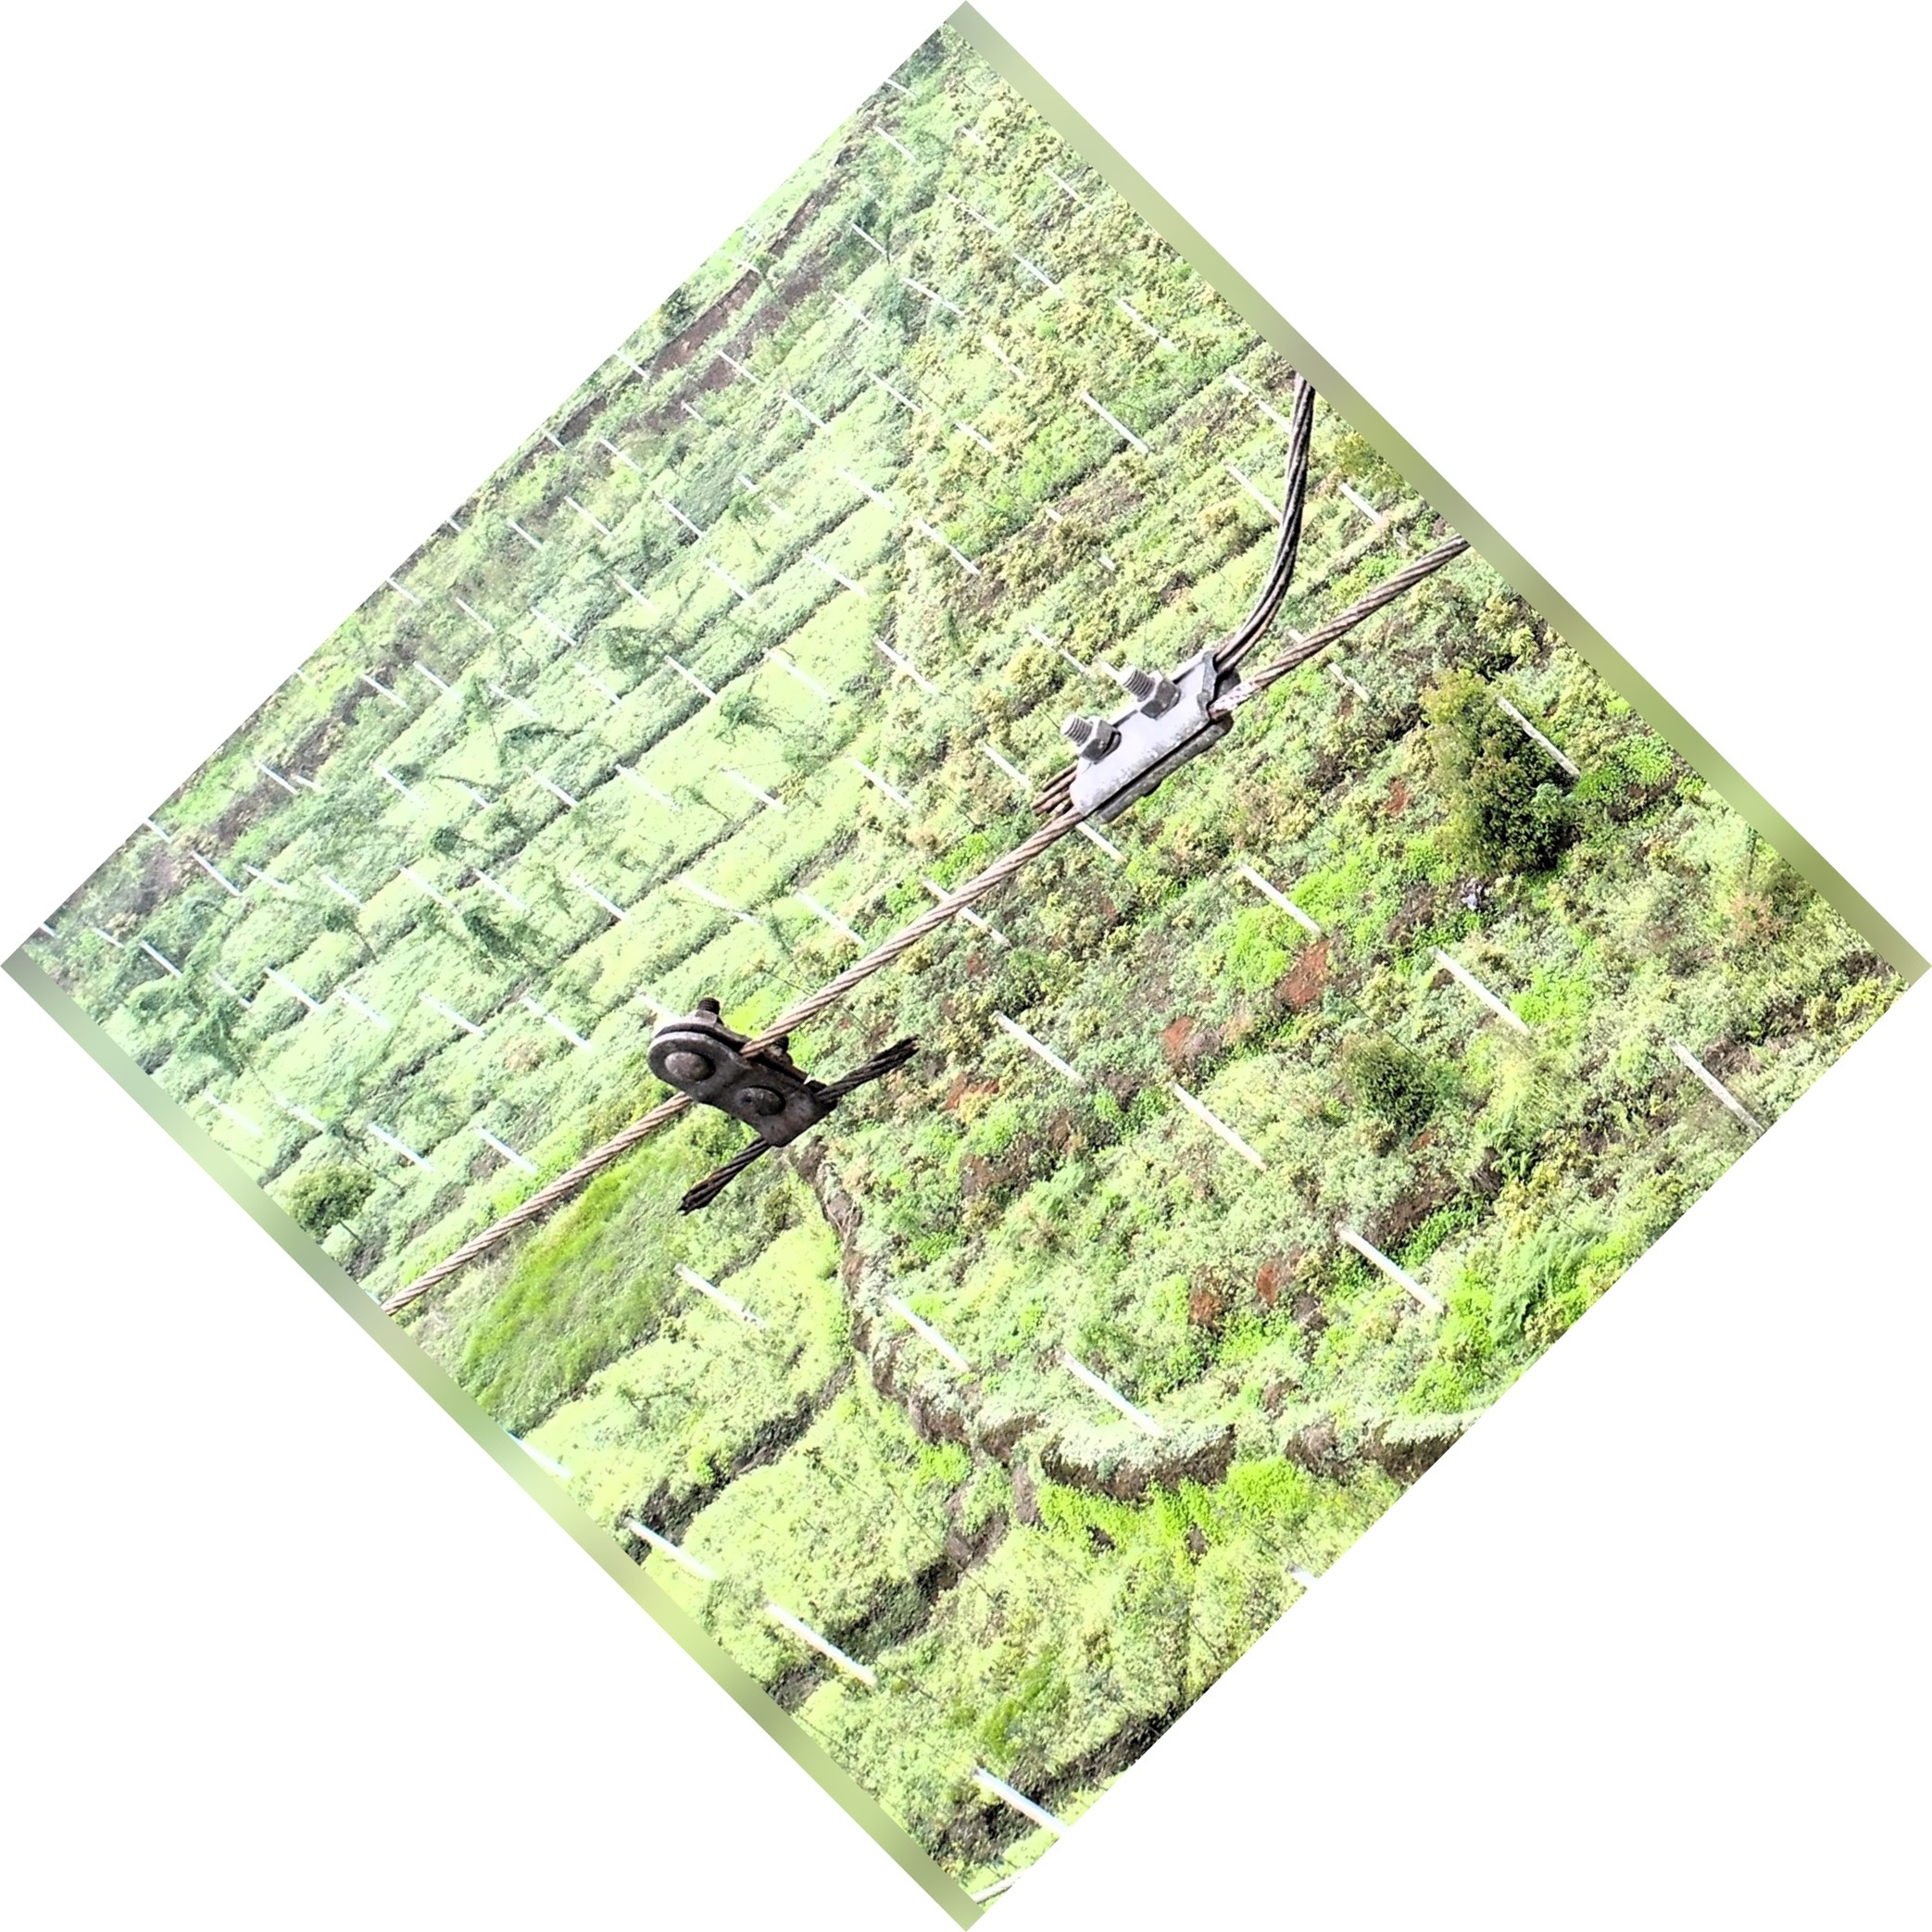Damage of shockproof hammer: (605, 964, 943, 1235)
